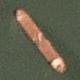ship: (0, 0, 29, 34)
